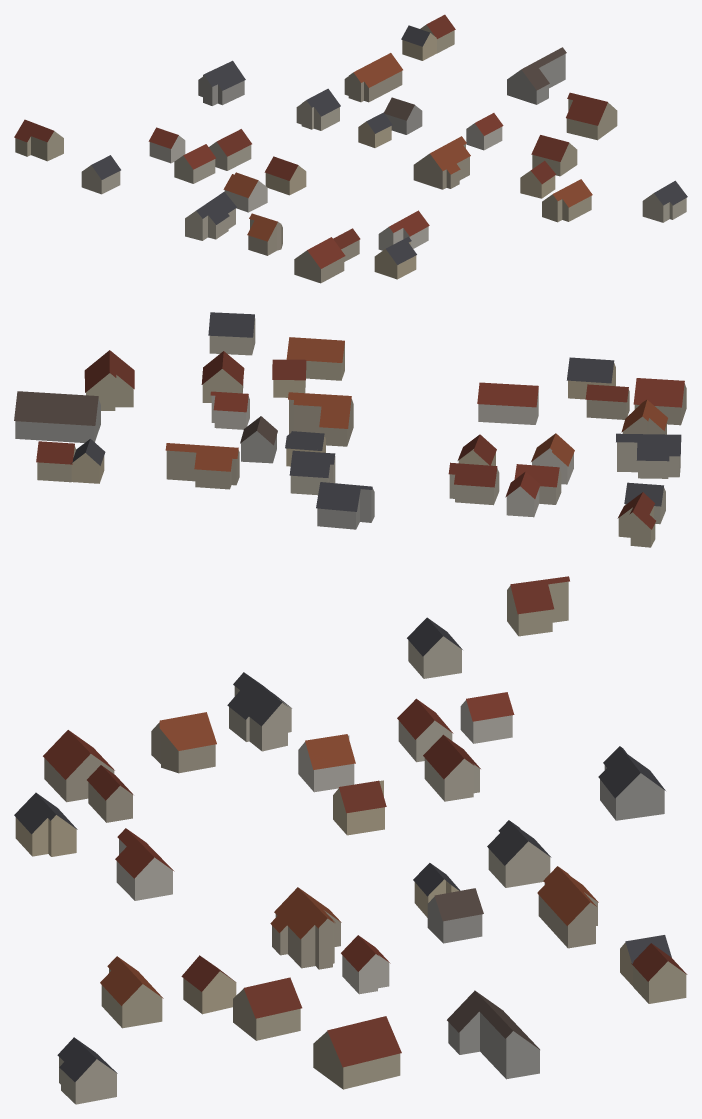
3 renders of one model, top to bottom at view 1: azimuth 30°, elevation 25°; view 2: azimuth 150°, elevation 25°; view 3: azimuth 270°, elevation 25°, orthographic. The views are drawn at different scales.
Visible parts, largest first — view 1: buildings; view 2: buildings; view 3: buildings.
Boxes of the visible parts, x1,y1,x2,y2 form: buildings: [14, 14, 687, 283]; buildings: [14, 312, 686, 547]; buildings: [14, 576, 687, 1104].
Bounding box in the file's own units: 220 × 38.46 × 156.
